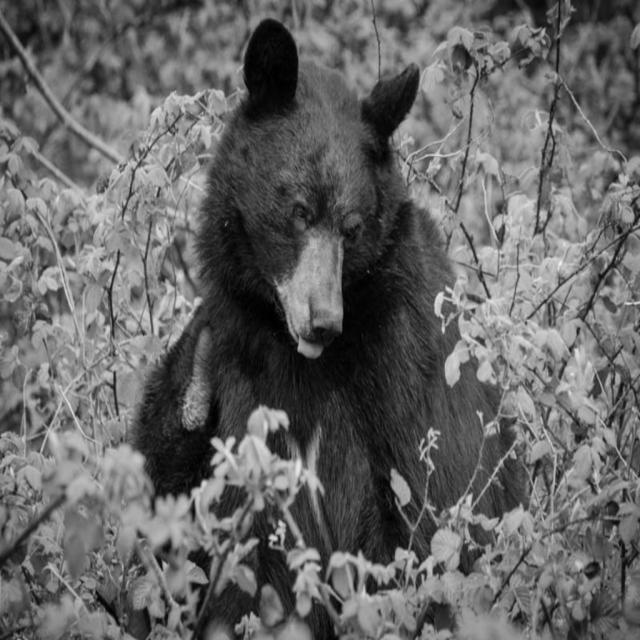Bear: (122, 15, 542, 611)
